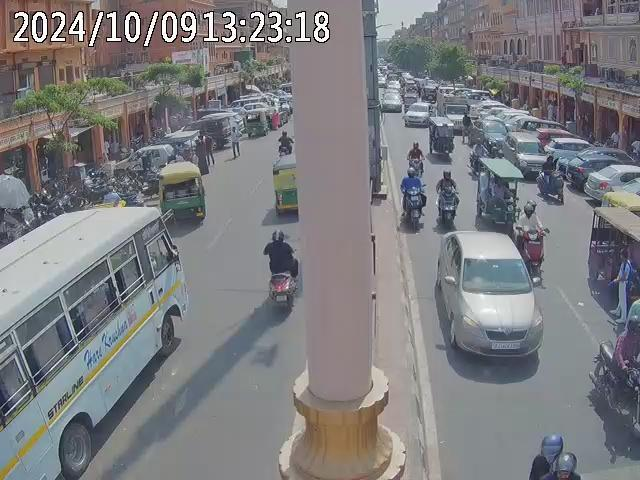auto: (584, 204, 639, 323), (473, 155, 521, 227), (155, 160, 206, 225), (272, 135, 296, 218), (196, 110, 237, 146), (426, 115, 455, 160), (240, 106, 271, 139)
bus: (0, 203, 192, 479)
car: (432, 227, 544, 373), (584, 164, 639, 205), (506, 134, 550, 177), (493, 109, 533, 130), (403, 102, 435, 126), (379, 91, 403, 112), (477, 98, 507, 111), (463, 87, 487, 100)
helmet: (270, 229, 288, 243), (522, 199, 536, 215), (441, 169, 453, 178), (412, 141, 420, 147)
person: (229, 129, 242, 159)
scooty-rider: (259, 228, 302, 315), (510, 199, 547, 274), (399, 166, 426, 229), (434, 168, 461, 228), (535, 168, 566, 204)
